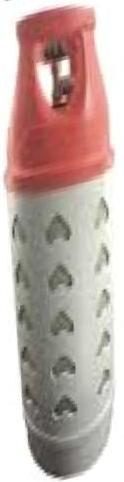cylinder: (1, 1, 124, 482)
